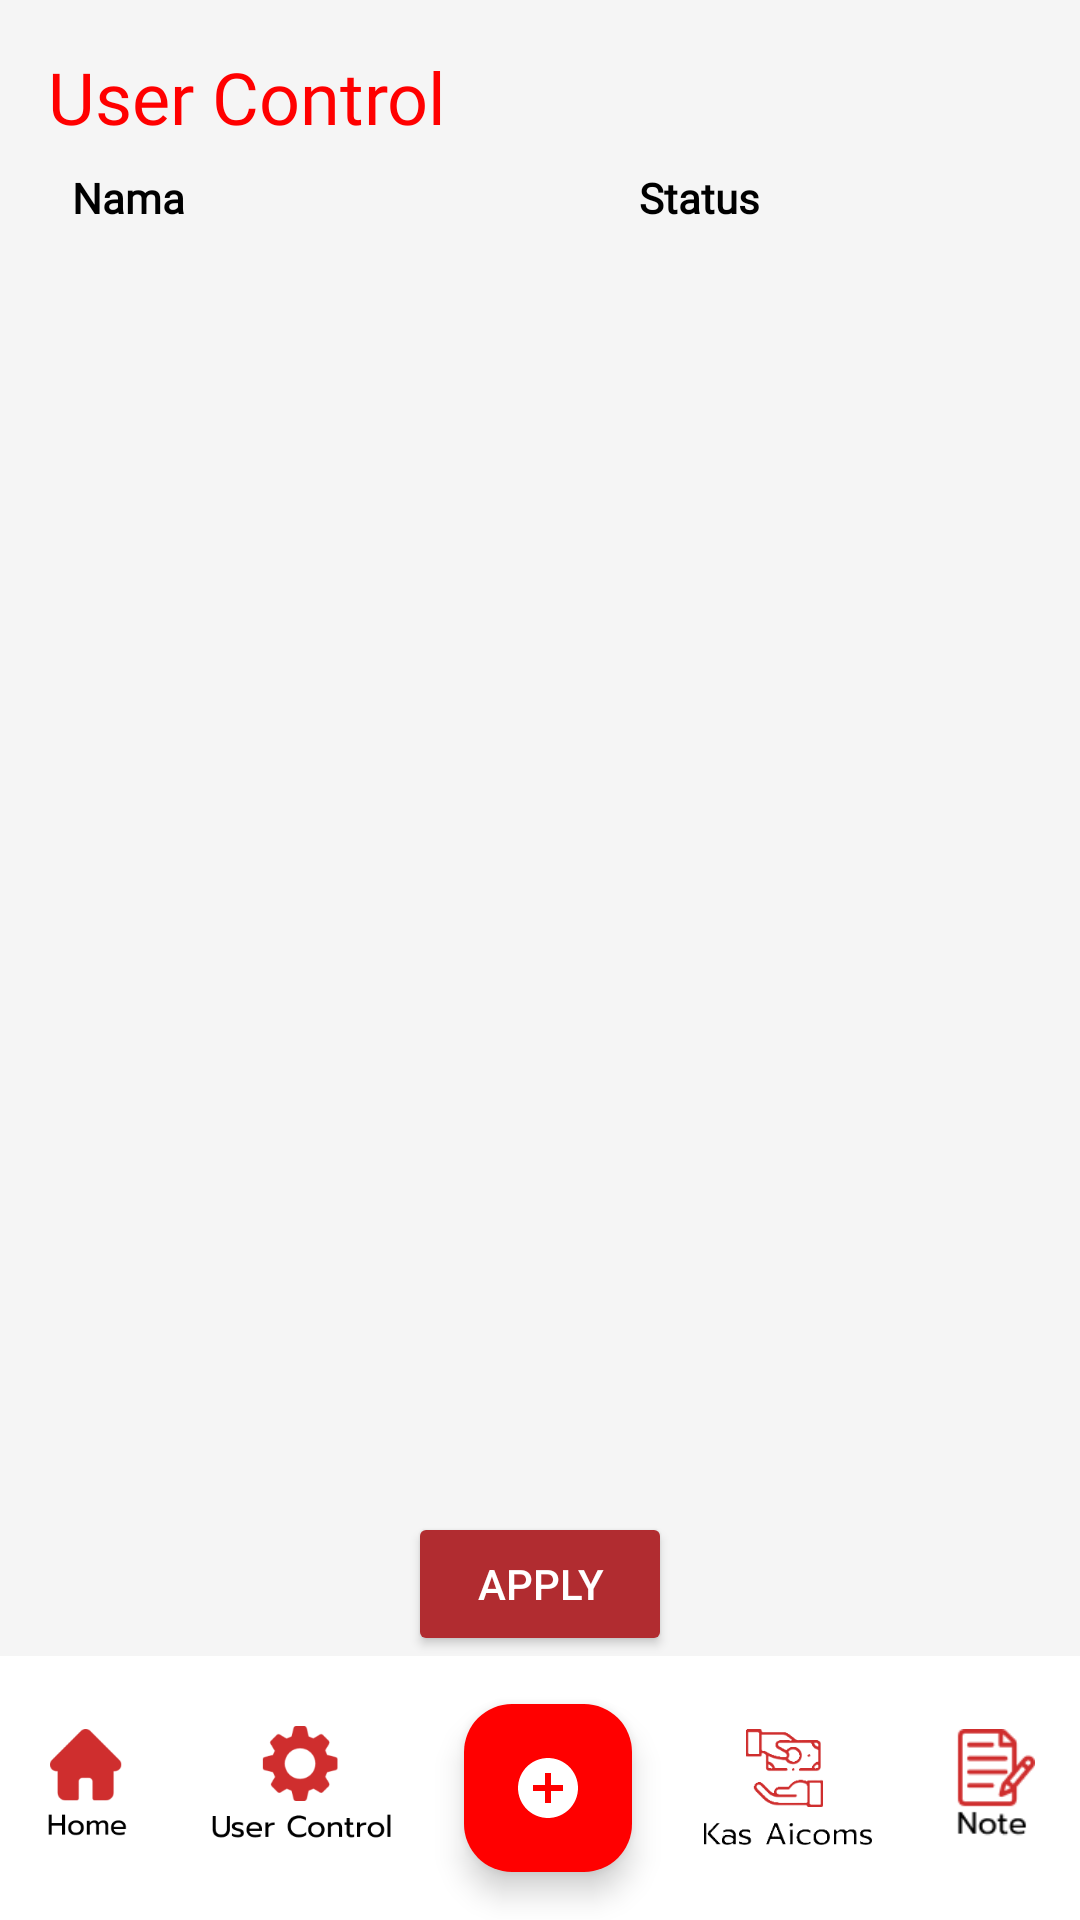

Icons on this 1080 x 1920 Android screen, each with the point to tap as (x=x, y=y):
add circle: (x=548, y=1788)
